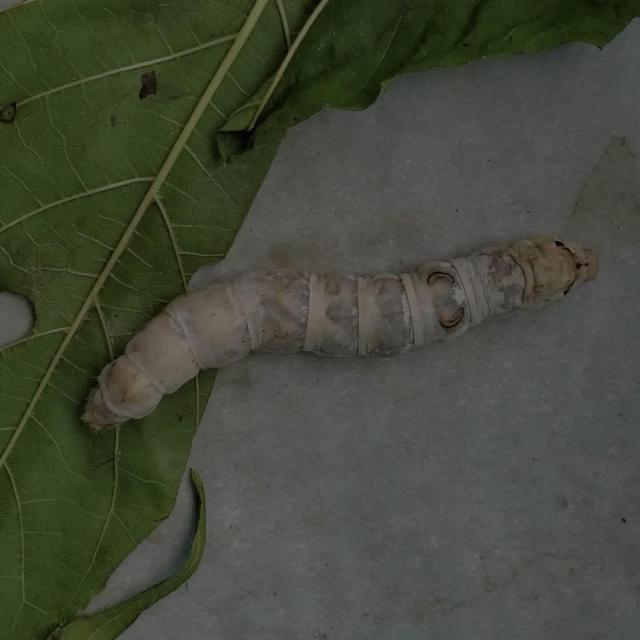Grasserie: (67, 216, 612, 442)
